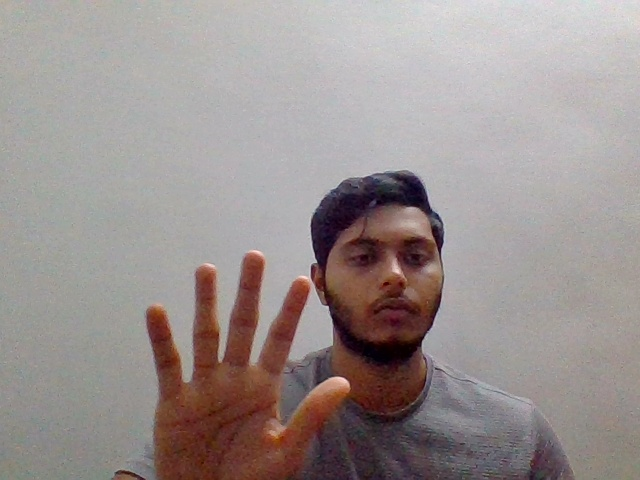Hello: (137, 246, 357, 477)
